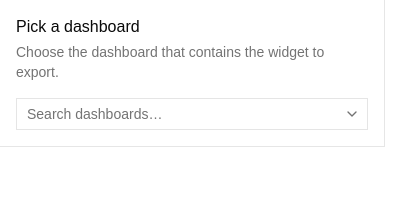
DashboardPicker › opens on click and lists dashboards, filtering as you type
The width and height of the screenshot is (402, 221).
Click the dropdown labelled "Search dashboards" at (178,114), box top-left (17, 98), bottom-right (340, 130)
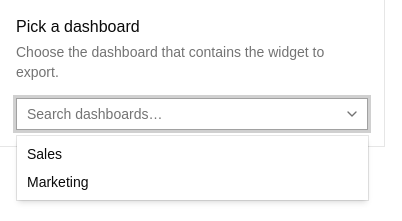
Expected: the option "Sales" is shown, top-left (27, 146), bottom-right (62, 162)
Expected: the option "Marketing" is shown, top-left (27, 174), bottom-right (88, 190)
Type "mark" into the dropdown labelled "Search dashboards" at (178,114), box top-left (17, 98), bottom-right (340, 130)
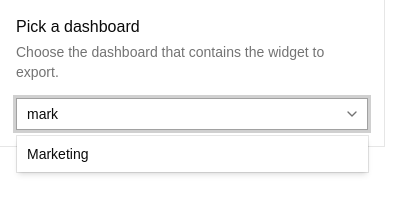
Expected: the option "Marketing" is shown, top-left (27, 146), bottom-right (88, 162)
Expected: the option "Sales" is gone
